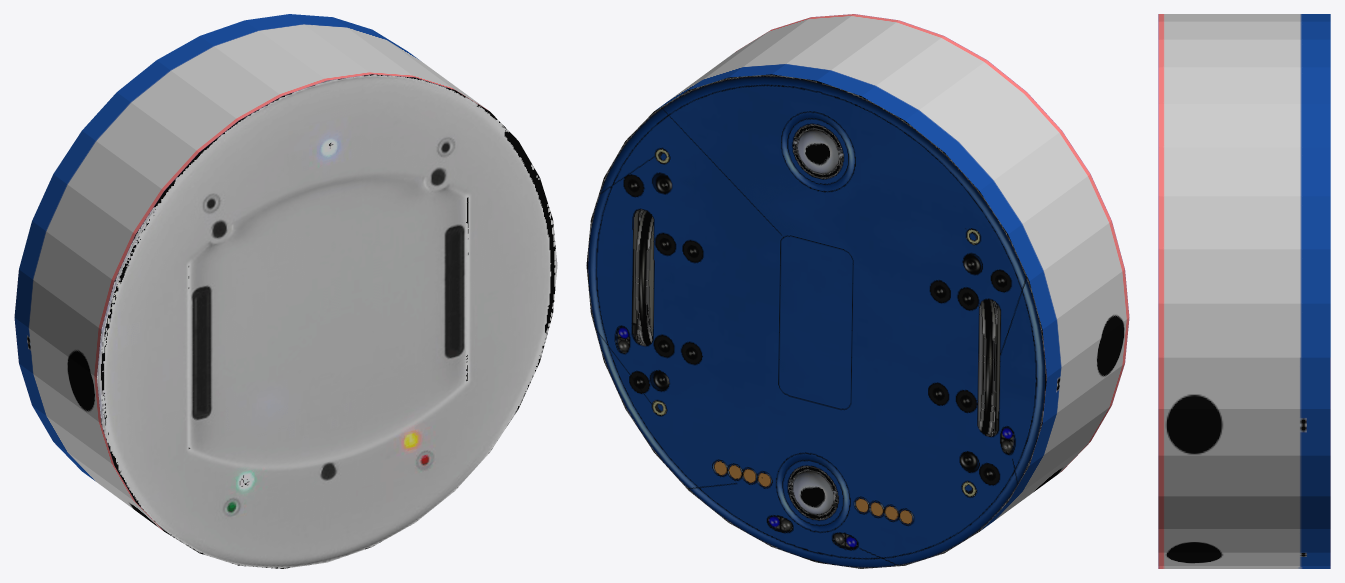
The model's file is KheperaIV.gltf.
3 renders of one model, left to right at view 1: azimuth 30°, elevation 25°; view 2: azimuth 150°, elevation 25°; view 3: azimuth 270°, elevation 25°, orthographic. The views are drawn at different scales.
Visible parts, largest first — view 1: Cylinder; view 2: Cylinder; view 3: Cylinder.
Part boxes in pixels (bbox=[...]): Cylinder: bbox=[14, 14, 557, 568]; Cylinder: bbox=[586, 14, 1129, 568]; Cylinder: bbox=[1158, 14, 1330, 568].
Size of the model in its own units: 3.42 by 3.42 by 1.06.
4 materials, 4 textured.
